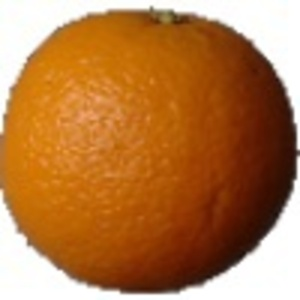laranja: (1, 4, 297, 295)
